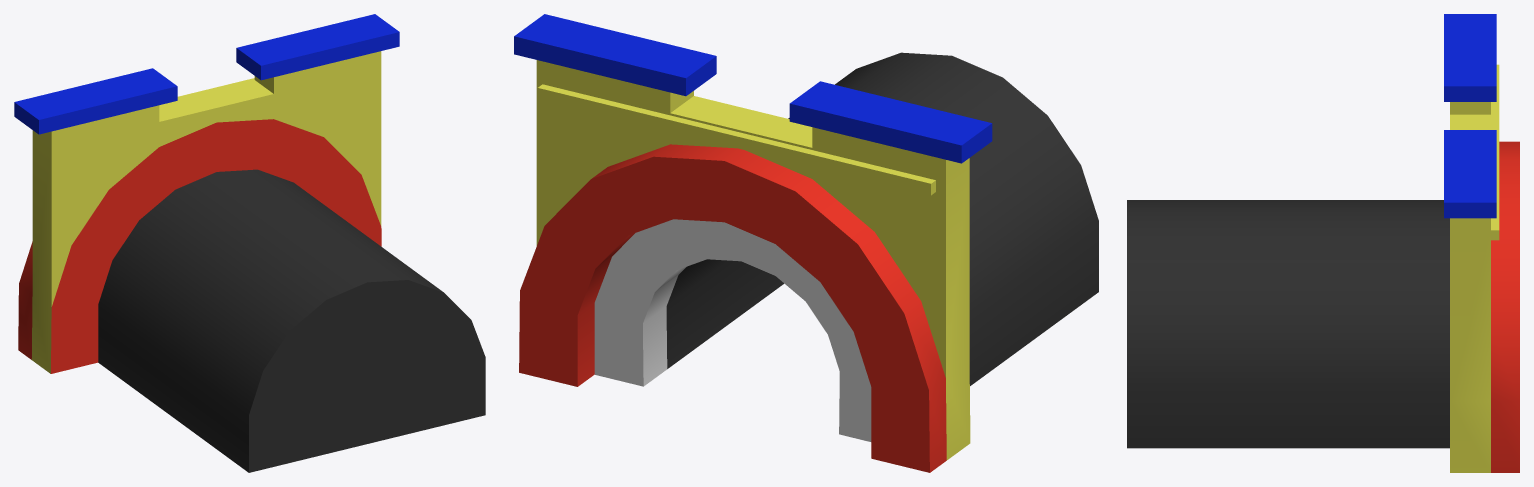
Rendered from tunnel.fbx.
3 renders of one model, left to right at view 1: azimuth 30°, elevation 25°; view 2: azimuth 150°, elevation 25°; view 3: azimuth 270°, elevation 25°, orthographic. The views are drawn at different scales.
Visible parts, largest first — view 1: Cylinder, Cylinder.003, Cylinder.005, Cylinder.004; view 2: Cylinder.003, Cylinder, Cylinder.005, Cylinder.004, Cube; view 3: Cylinder, Cylinder.003, Cylinder.004, Cylinder.005, Cube.
Boxes of the visible parts, x1,y1,x2,y2 form: Cylinder: [98, 169, 485, 472]; Cylinder.003: [18, 51, 381, 373]; Cylinder.005: [14, 68, 177, 134]; Cylinder.004: [236, 14, 399, 80]; Cylinder.003: [519, 60, 970, 472]; Cylinder: [666, 52, 1098, 385]; Cylinder.005: [789, 81, 992, 163]; Cylinder.004: [514, 14, 716, 96]; Cube: [537, 84, 935, 195]; Cylinder: [1127, 200, 1449, 448]; Cylinder.003: [1450, 102, 1519, 472]; Cylinder.004: [1444, 130, 1496, 218]; Cylinder.005: [1444, 14, 1496, 101]; Cube: [1491, 64, 1499, 240].
Size of the model in its own units: 24.52 by 16.86 by 21.59.
